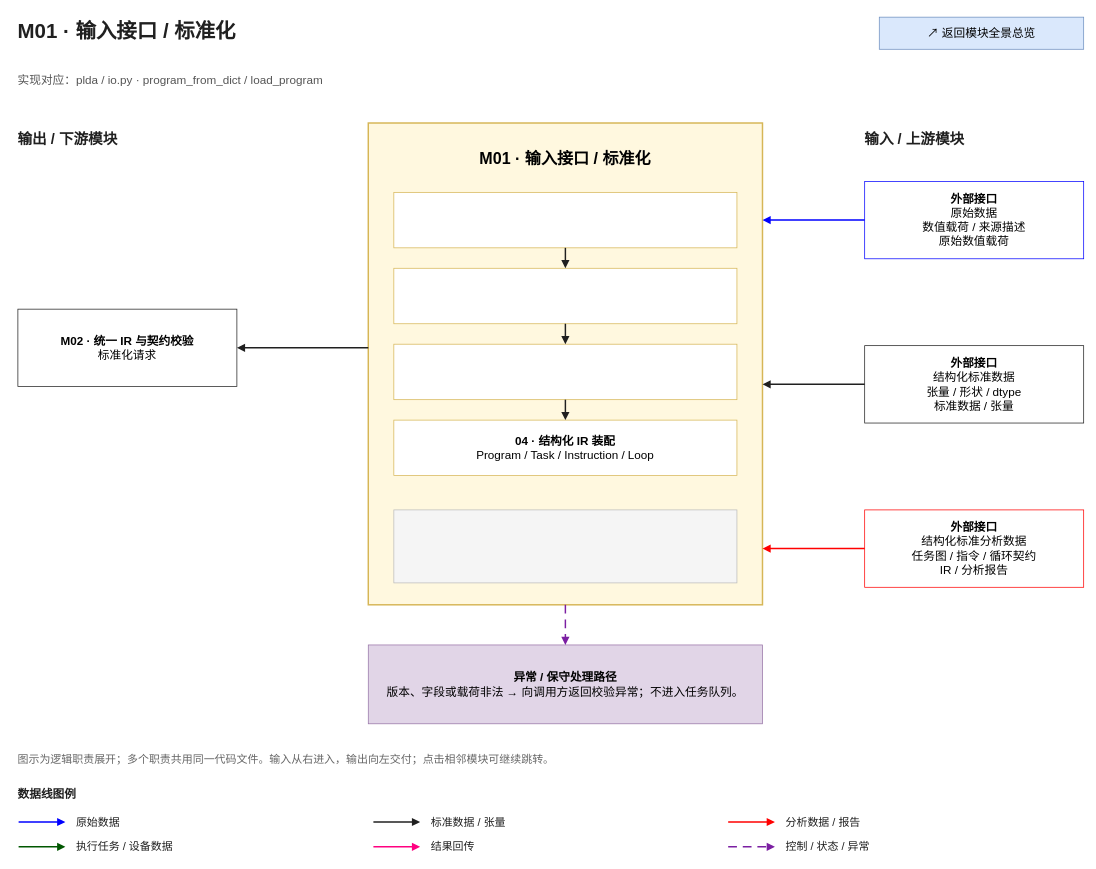
This 1096x869 diagram has some shape labels left out. The shapes that lost their labels are listed below. From the top down, each one's centre as x and y in pixels, then its label:
At [565,220]: "01 · 请求入口 JSON version=1；raw / standard / analysis".
At [565,296]: "02 · 字段与来源检查 拒绝未知请求字段；确认 source_kind".
At [565,371]: "03 · 数值载荷适配 values → Tensor；保留 shape / dtype".
At [565,546]: "边界 / 约定 原始入口支持已提供的数值载荷；不会从任意文本或程序自动推导完整语义。".
